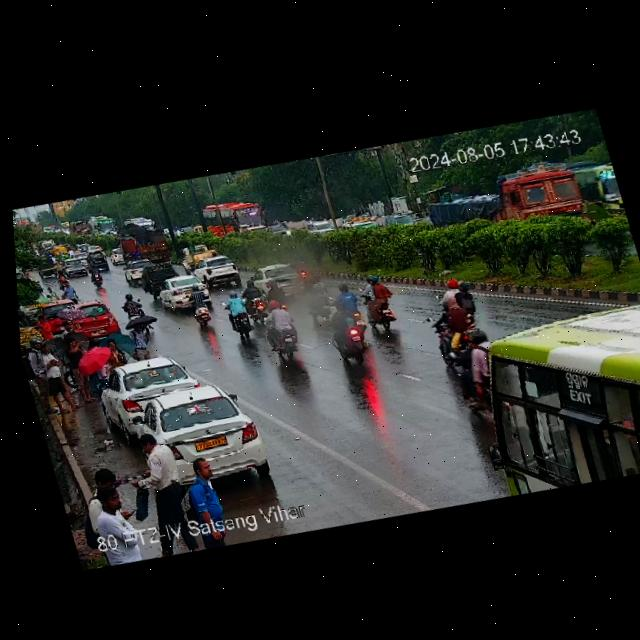bus: (441, 279, 640, 506), (198, 191, 271, 247), (574, 163, 625, 221)
car: (134, 375, 273, 499), (94, 346, 202, 429), (156, 269, 218, 314), (70, 298, 121, 343), (249, 257, 299, 300), (194, 250, 239, 288), (136, 258, 181, 294), (155, 268, 208, 298), (121, 254, 164, 285), (338, 210, 385, 238), (59, 254, 91, 279)
motorcycle: (409, 267, 493, 371), (337, 267, 406, 340), (255, 291, 304, 362), (322, 294, 369, 367), (219, 287, 256, 340), (181, 283, 218, 329), (299, 273, 333, 321), (118, 289, 153, 333), (243, 277, 270, 324), (84, 249, 110, 275), (265, 276, 287, 306), (87, 266, 110, 291), (52, 267, 75, 291)
person: (137, 429, 202, 557), (171, 449, 234, 528), (20, 334, 60, 415), (37, 337, 74, 413), (61, 333, 98, 404), (85, 466, 134, 516), (131, 325, 154, 361), (105, 338, 126, 364), (33, 313, 52, 338), (62, 279, 78, 302), (60, 317, 75, 334), (46, 285, 59, 302), (59, 292, 68, 301)
truck: (417, 145, 589, 241), (113, 211, 171, 260)
